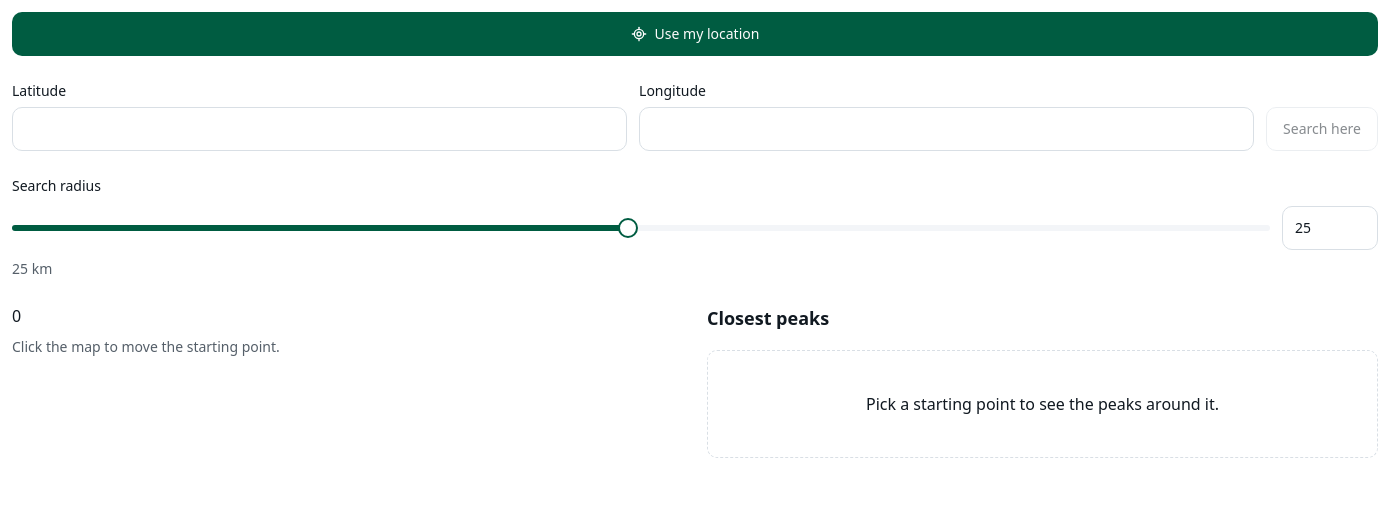
Test: NearbyPeaksView › nearbyPeaksView_noPeaksInRadius_offersToWidenIt
Type "42.6" into the field labelled "Latitude" at (320, 129), box [12,107,627,151]
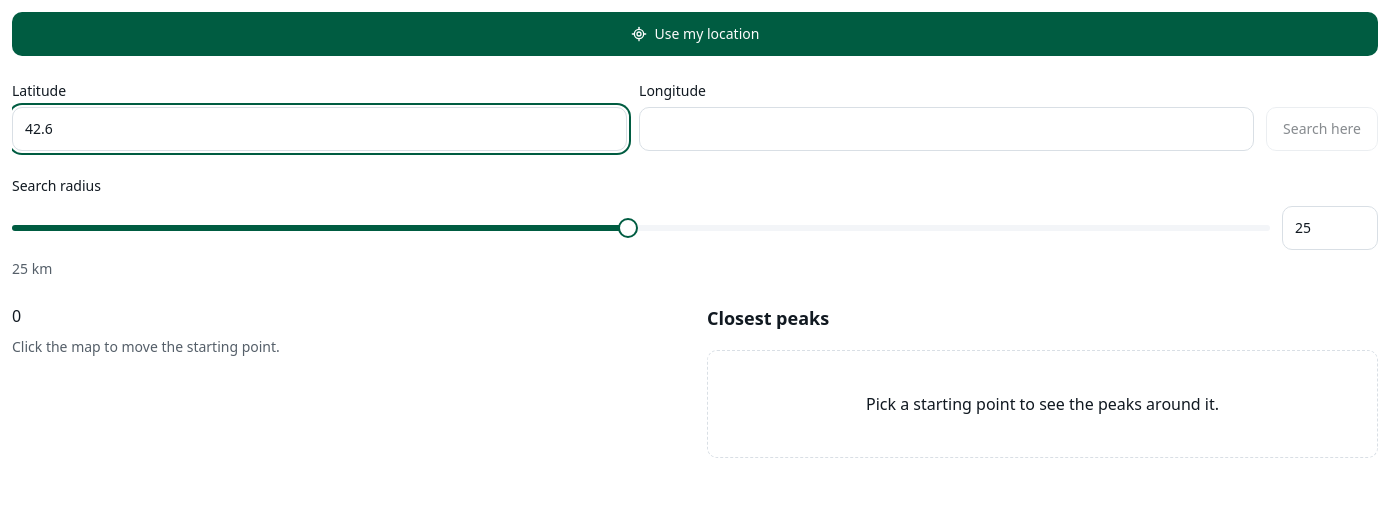
Type "0.6" into the field labelled "Longitude" at (946, 129), box [639,107,1254,151]
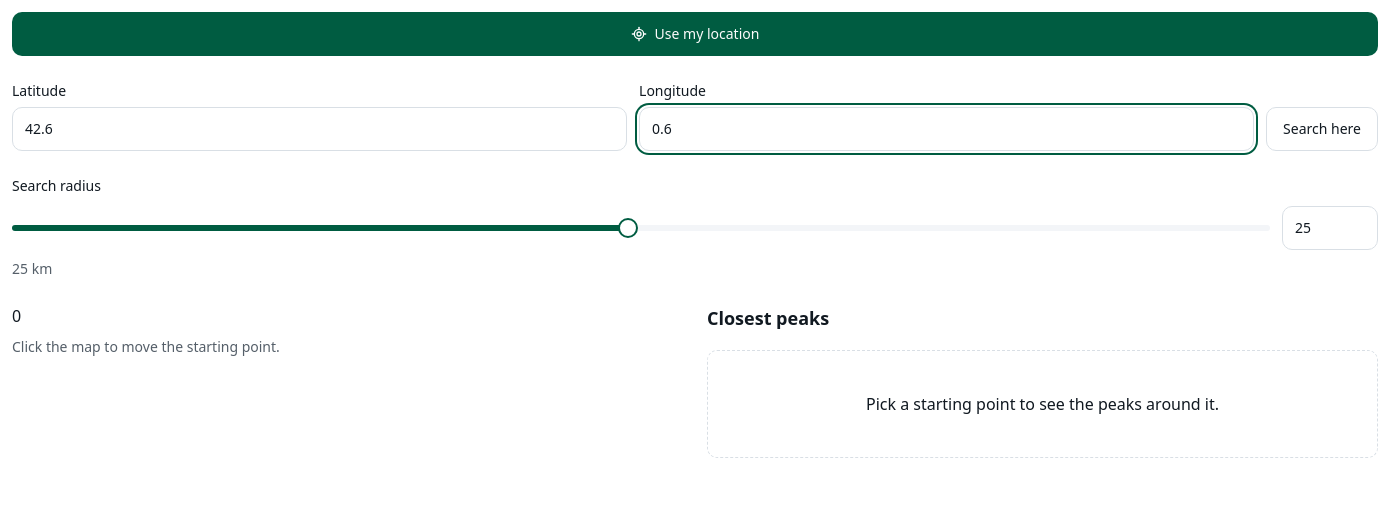
Click the button "Search here" at (1322, 129), box [1266,107,1378,151]
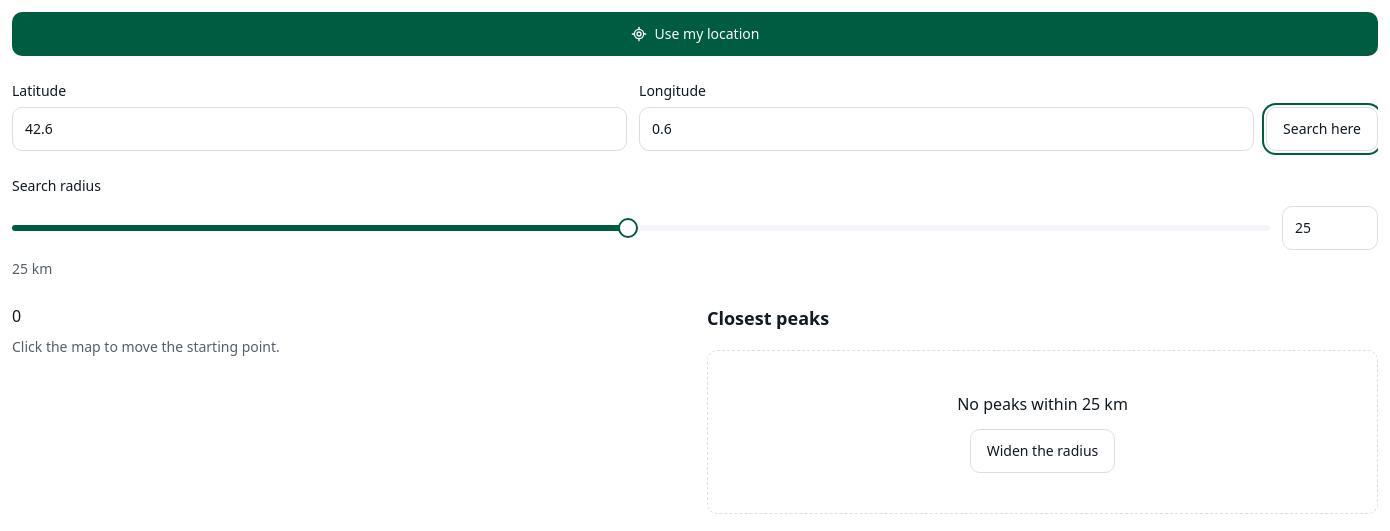
Now the button "Widen the radius" is shown, box [970,428,1115,472]
